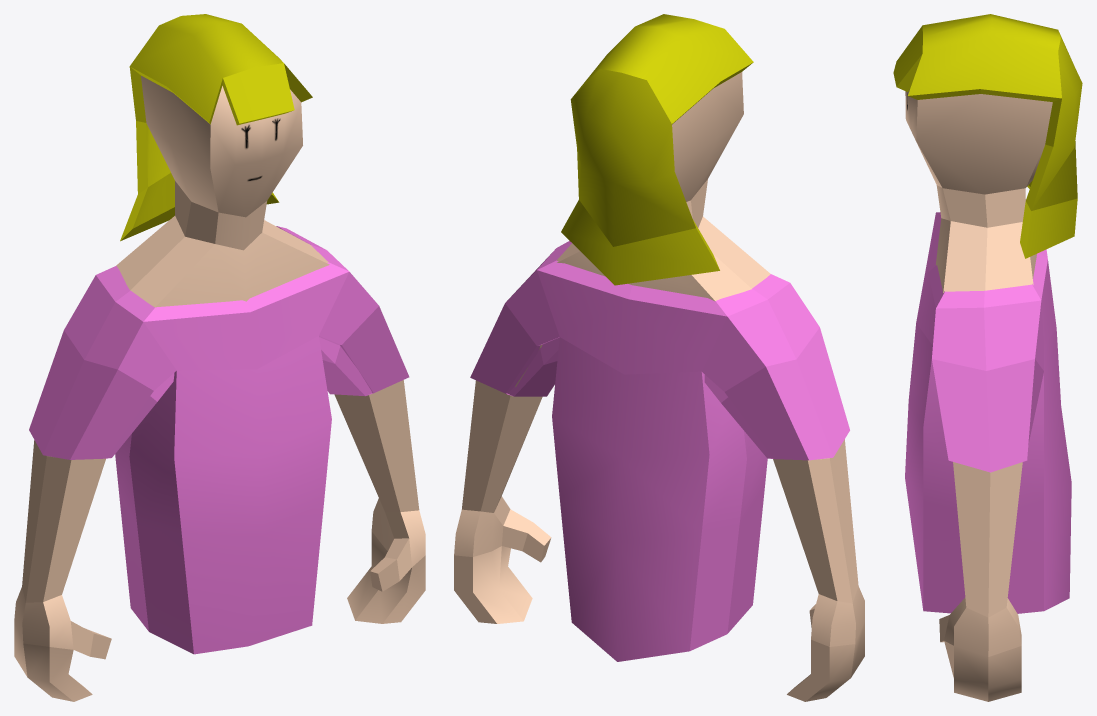
The model's file is Personaje_3.fbx.
3 views of the same model, side by side, from view 1: azimuth 30°, elevation 25°; view 2: azimuth 150°, elevation 25°; view 3: azimuth 270°, elevation 25° (orthographic). The views are drawn at different scales.
Visible parts, largest first — view 1: RopaPersonaje_3, CuerpoPersonaje_3, CabelloPersonaje_3; view 2: RopaPersonaje_3, CuerpoPersonaje_3, CabelloPersonaje_3; view 3: RopaPersonaje_3, CuerpoPersonaje_3, CabelloPersonaje_3.
Part boxes in pixels (bbox=[...]): RopaPersonaje_3: bbox=[29, 226, 409, 654]; CuerpoPersonaje_3: bbox=[14, 75, 425, 701]; CabelloPersonaje_3: bbox=[120, 14, 312, 241]; RopaPersonaje_3: bbox=[470, 241, 849, 661]; CuerpoPersonaje_3: bbox=[454, 72, 864, 701]; CabelloPersonaje_3: bbox=[561, 14, 753, 285]; RopaPersonaje_3: bbox=[905, 212, 1071, 613]; CuerpoPersonaje_3: bbox=[905, 90, 1052, 701]; CabelloPersonaje_3: bbox=[893, 14, 1082, 258].
Bounding box in the file's own units: 82.17 × 126 × 35.71.
